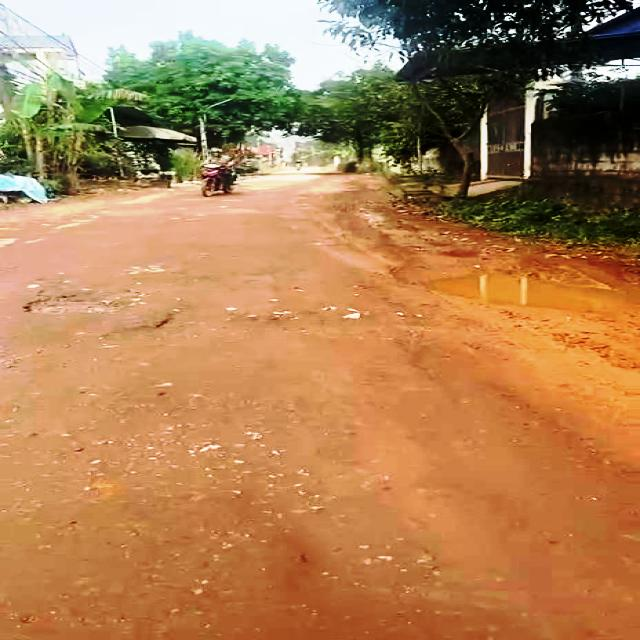pothole: (425, 272, 640, 318), (12, 290, 149, 315)
